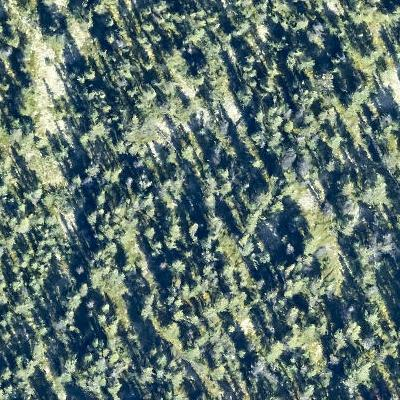tree-top: (337, 349, 379, 392), (87, 261, 130, 301), (277, 324, 318, 358), (62, 8, 96, 46), (359, 170, 392, 209), (10, 81, 41, 117), (336, 315, 364, 345), (11, 352, 37, 381), (134, 287, 159, 317), (331, 172, 358, 199), (356, 302, 384, 328), (20, 131, 43, 162), (56, 348, 80, 377), (232, 78, 258, 104), (40, 13, 66, 39), (74, 61, 99, 88), (134, 86, 158, 112), (201, 377, 229, 399), (86, 158, 111, 180), (99, 316, 124, 338), (347, 82, 369, 106), (340, 198, 361, 222), (379, 0, 400, 23), (51, 313, 73, 334), (298, 234, 319, 256), (135, 171, 154, 195), (247, 352, 268, 373), (277, 147, 300, 166), (139, 222, 160, 242), (243, 212, 264, 232), (166, 256, 188, 275), (22, 181, 41, 202), (207, 215, 224, 238), (92, 186, 111, 206), (81, 158, 101, 177), (62, 285, 81, 305), (136, 52, 156, 70), (12, 213, 33, 230), (170, 305, 185, 328), (296, 383, 316, 400), (100, 10, 118, 28), (0, 42, 16, 62), (216, 291, 232, 309), (141, 360, 156, 379), (294, 13, 310, 29)
